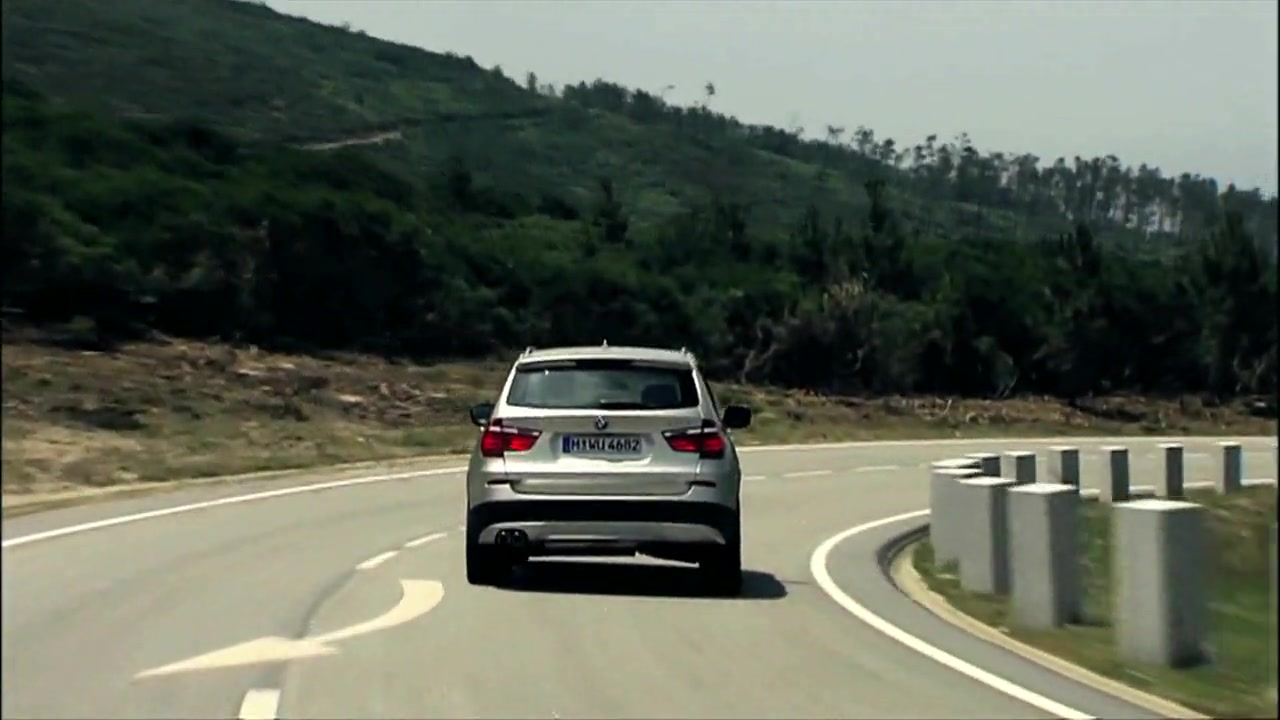car: (458, 339, 750, 591)
